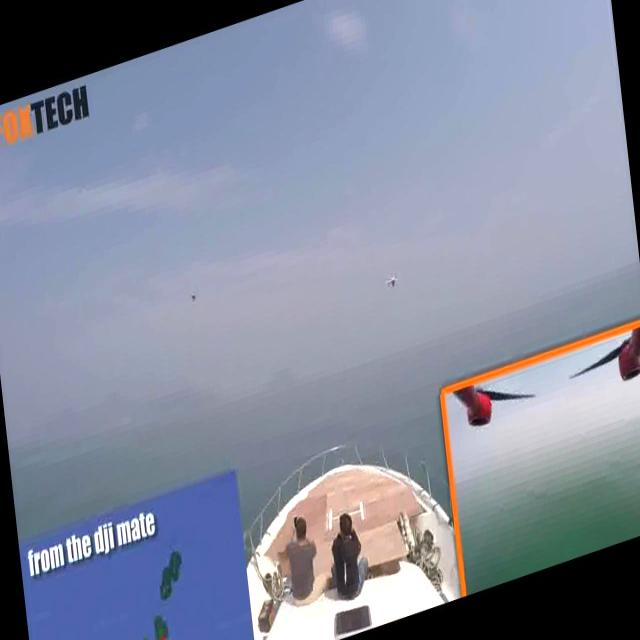drone: (378, 265, 402, 293)
